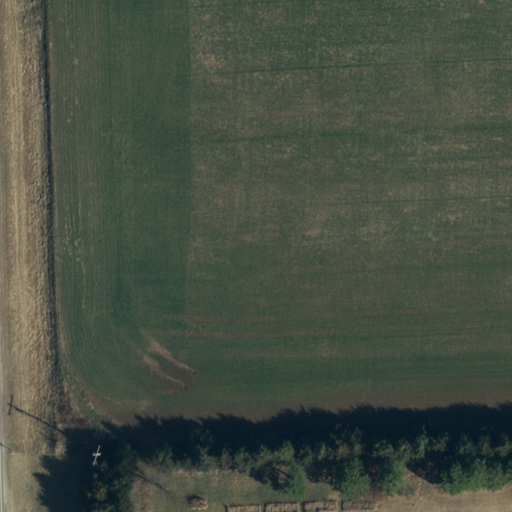DT: (84, 442, 109, 468)
